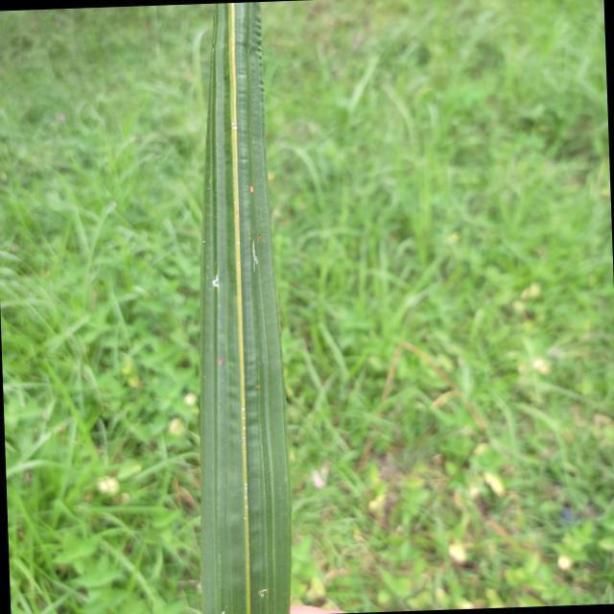Boron: (199, 1, 294, 614)
